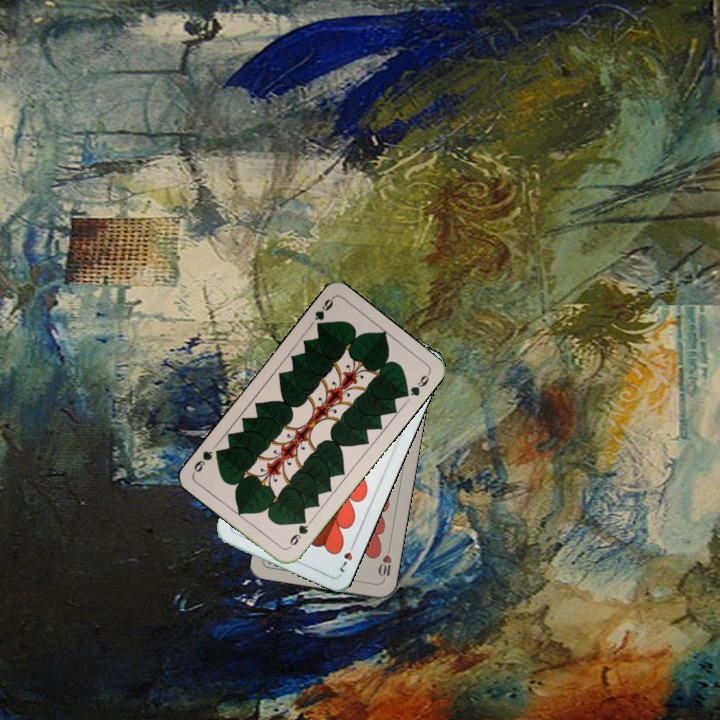G9: (310, 293, 336, 332), (284, 515, 311, 551)
H10: (374, 543, 395, 583)
H7: (334, 538, 358, 575)
